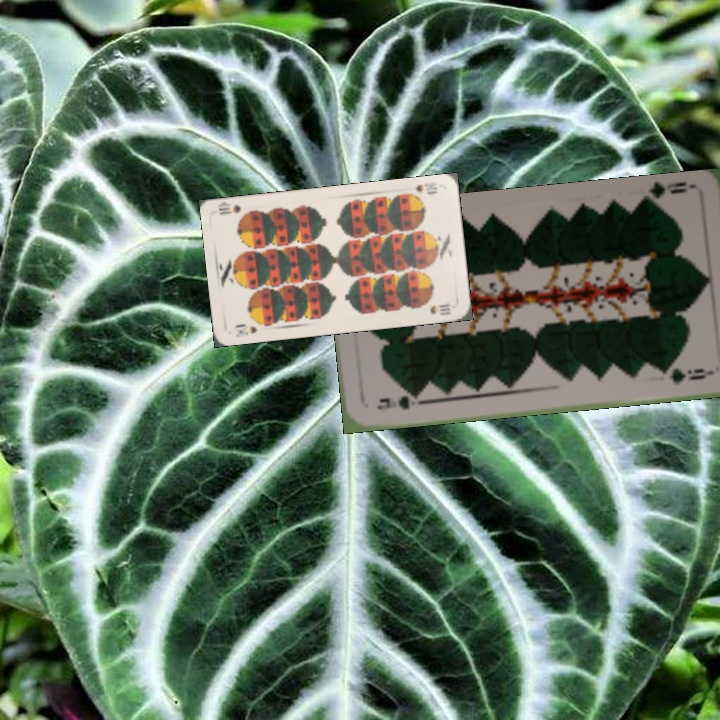G9: (637, 178, 695, 208), (373, 391, 425, 412)
S10: (402, 178, 440, 200), (232, 321, 260, 340)
